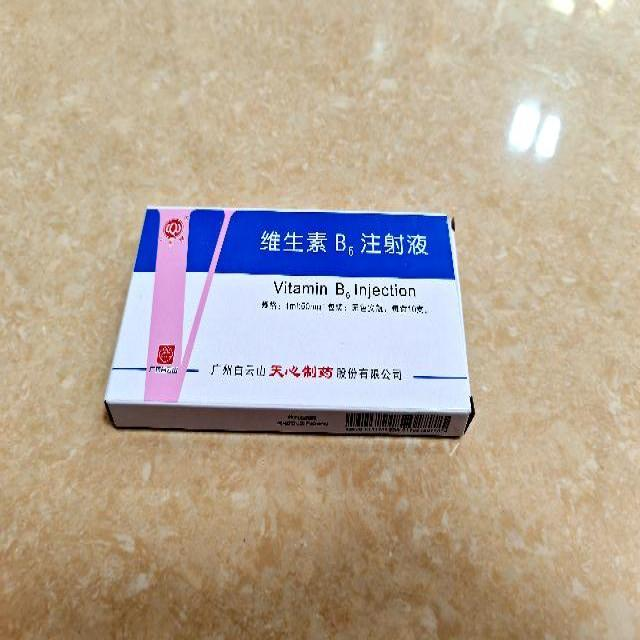box: (104, 206, 472, 434)
